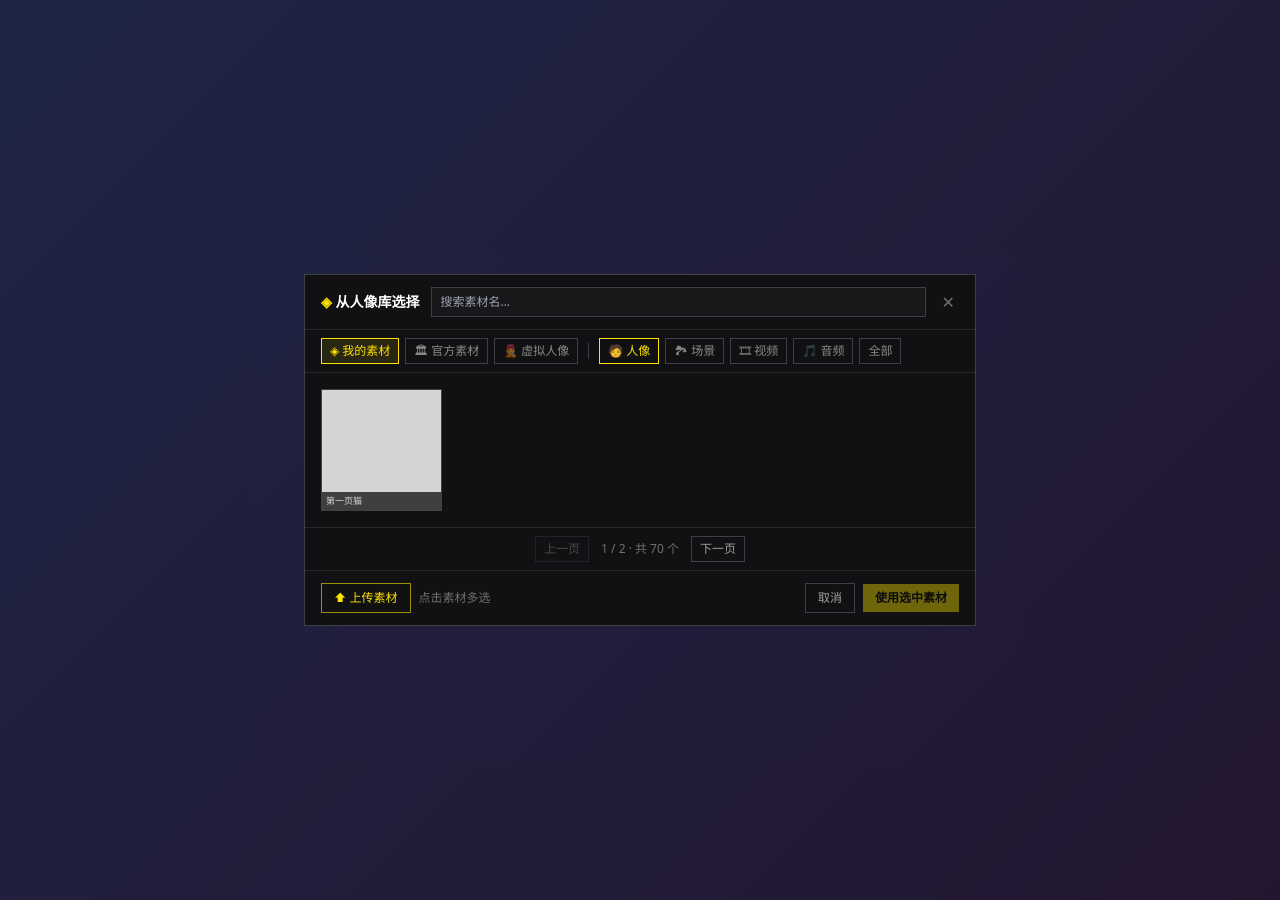
PortraitPickerModal › 分页 › 点「下一页」按 page=2 重拉并换成第二页内容
expect the element with test id "vw-picker-pager" shows "1 / 2": met, box [305, 527, 975, 570]
Click the button "下一页" at (718, 549), box [691, 536, 745, 562]
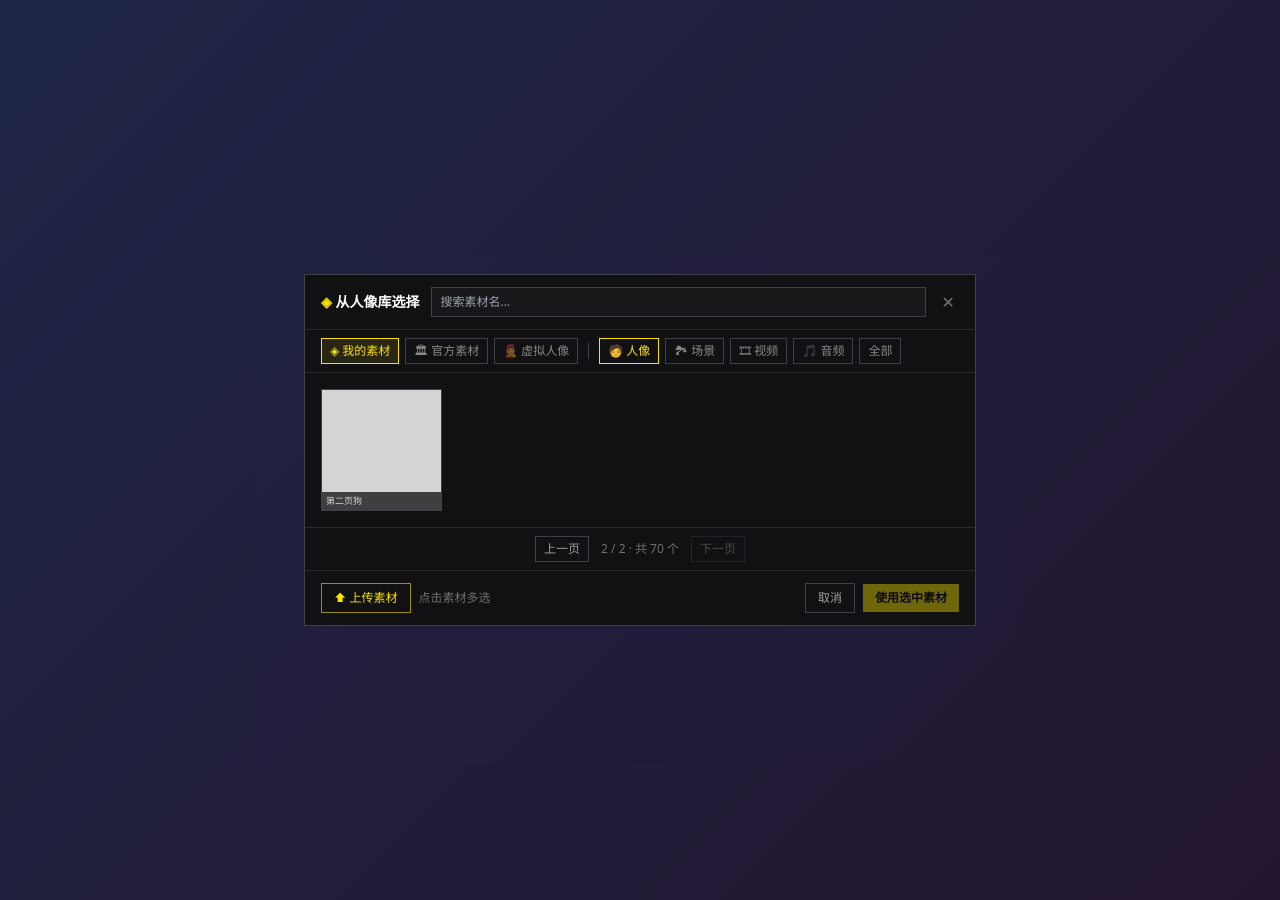
expect the button titled "第一页猫" is gone: met
expect the button "下一页" is disabled: met, box [691, 536, 745, 562]
